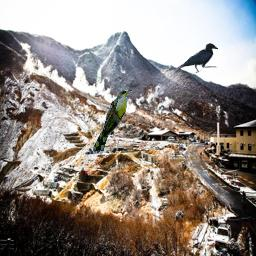Crow: (176, 43, 218, 73)
Cuckoo: (93, 90, 132, 154)
